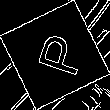P_W: (25, 29, 85, 81)
